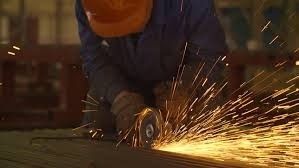helmet: (75, 1, 152, 38)
person with partial safety: (72, 3, 206, 129)
